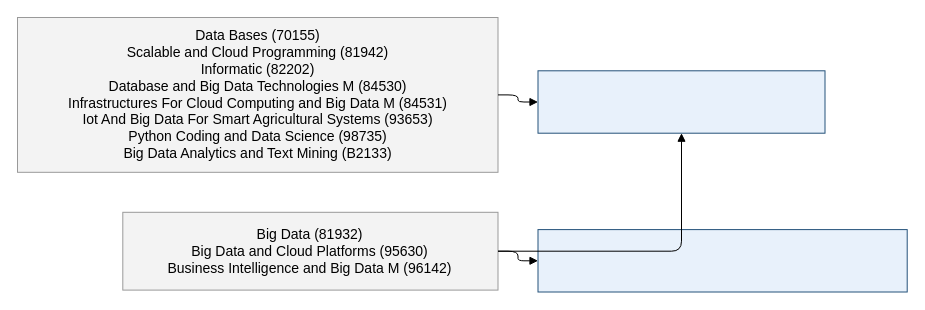
Some shapes in this 925 by 310 pixel diagram are drawn without their labels. Here are the shapes that lost their labels. From the top down, the centre of each, then its label:
At (x=681, y=101): "Big Data Processing Foundations 2 ECTS".
At (x=722, y=260): "Data Platforms and Cloud Big Data Solutions 2 ECTS".
